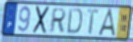9: (17, 5, 32, 34)
A: (97, 8, 118, 38)
D: (66, 7, 84, 35)
R: (48, 8, 67, 34)
T: (86, 9, 100, 36)
X: (31, 6, 51, 35)
